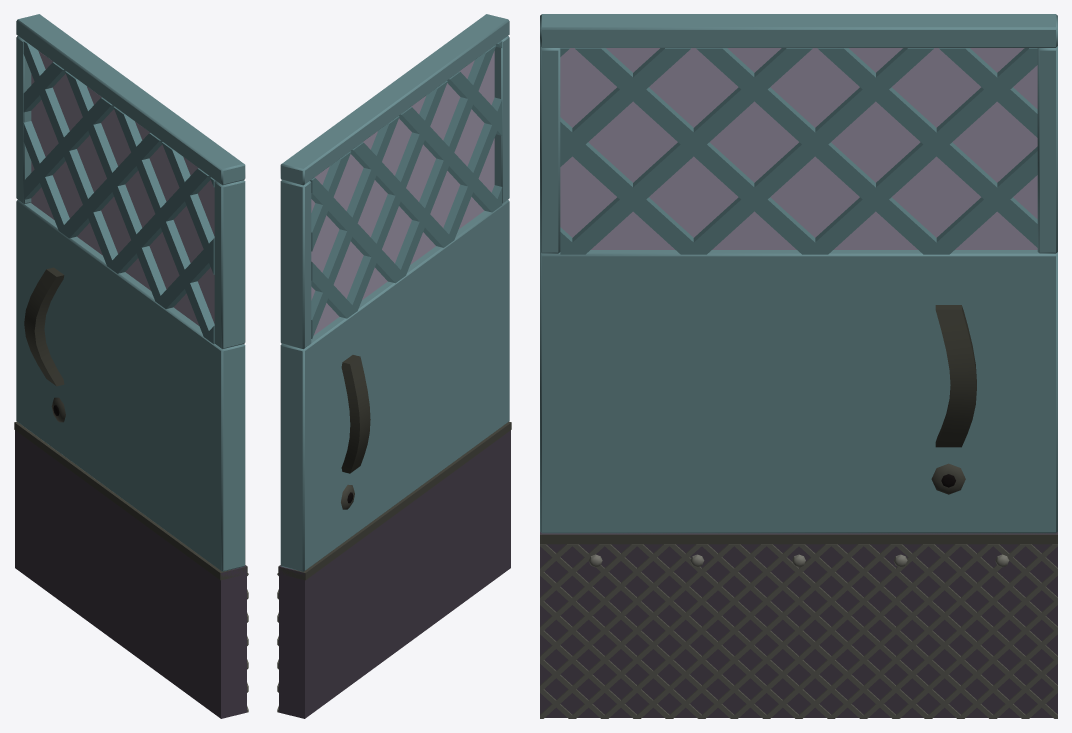
Rendered from door_lattice_a.glb.
3 views of the same model, side by side, from view 1: azimuth 30°, elevation 25°; view 2: azimuth 150°, elevation 25°; view 3: azimuth 270°, elevation 25° (orthographic). The views are drawn at different scales.
Visible parts, largest first — view 1: plate_11_11, mesh_plate_5_13, lattice_10_11, lattice_back_12_13, handle_3_3, mesh_trim_4_3; view 2: plate_11_11, mesh_plate_5_13, lattice_10_11, lattice_back_12_13, mesh_trim_4_3, handle_3_3; view 3: plate_11_11, mesh_plate_5_13, lattice_back_12_13, lattice_10_11, mesh_6_3, mesh_trim_4_3, handle_3_3.
Part boxes in pixels (x1=…): plate_11_11: x1=16, y1=14, x2=245, y2=571; mesh_plate_5_13: x1=15, y1=430, x2=246, y2=718; lattice_10_11: x1=23, y1=41, x2=215, y2=343; lattice_back_12_13: x1=31, y1=51, x2=214, y2=325; handle_3_3: x1=24, y1=267, x2=64, y2=386; mesh_trim_4_3: x1=14, y1=421, x2=247, y2=580; plate_11_11: x1=280, y1=14, x2=509, y2=571; mesh_plate_5_13: x1=279, y1=430, x2=510, y2=718; lattice_10_11: x1=310, y1=41, x2=502, y2=338; lattice_back_12_13: x1=311, y1=51, x2=494, y2=335; mesh_trim_4_3: x1=278, y1=421, x2=511, y2=580; handle_3_3: x1=341, y1=355, x2=370, y2=473; plate_11_11: x1=540, y1=14, x2=1057, y2=533; mesh_plate_5_13: x1=540, y1=532, x2=1057, y2=717; lattice_back_12_13: x1=560, y1=48, x2=1037, y2=249; lattice_10_11: x1=560, y1=48, x2=1037, y2=254; mesh_6_3: x1=540, y1=544, x2=1057, y2=718; mesh_trim_4_3: x1=540, y1=533, x2=1057, y2=544; handle_3_3: x1=935, y1=305, x2=976, y2=447.
Size of the model in its own units: 0.2515 by 1.84 by 1.25.
